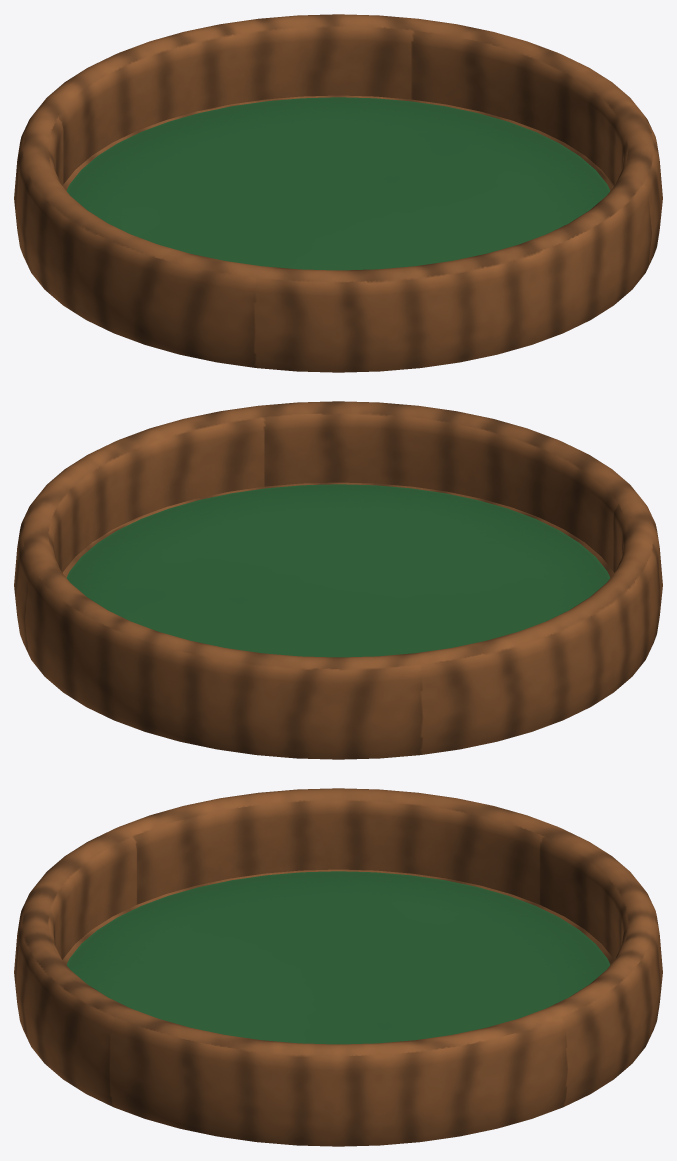
3 renders of one model, top to bottom at view 1: azimuth 30°, elevation 25°; view 2: azimuth 150°, elevation 25°; view 3: azimuth 270°, elevation 25°, orthographic.
Visible parts, largest first — view 1: Rim, Felt; view 2: Rim, Felt; view 3: Rim, Felt.
Boxes of the visible parts, x1=… form: Rim: x1=14, y1=14, x2=662, y2=372; Felt: x1=66, y1=97, x2=610, y2=270; Rim: x1=14, y1=401, x2=662, y2=759; Felt: x1=66, y1=484, x2=610, y2=657; Rim: x1=14, y1=788, x2=662, y2=1146; Felt: x1=66, y1=871, x2=610, y2=1044.
Bounding box in the file's own units: 0.303 × 0.05 × 0.303.
Materials: 1 (1 with a texture image).
